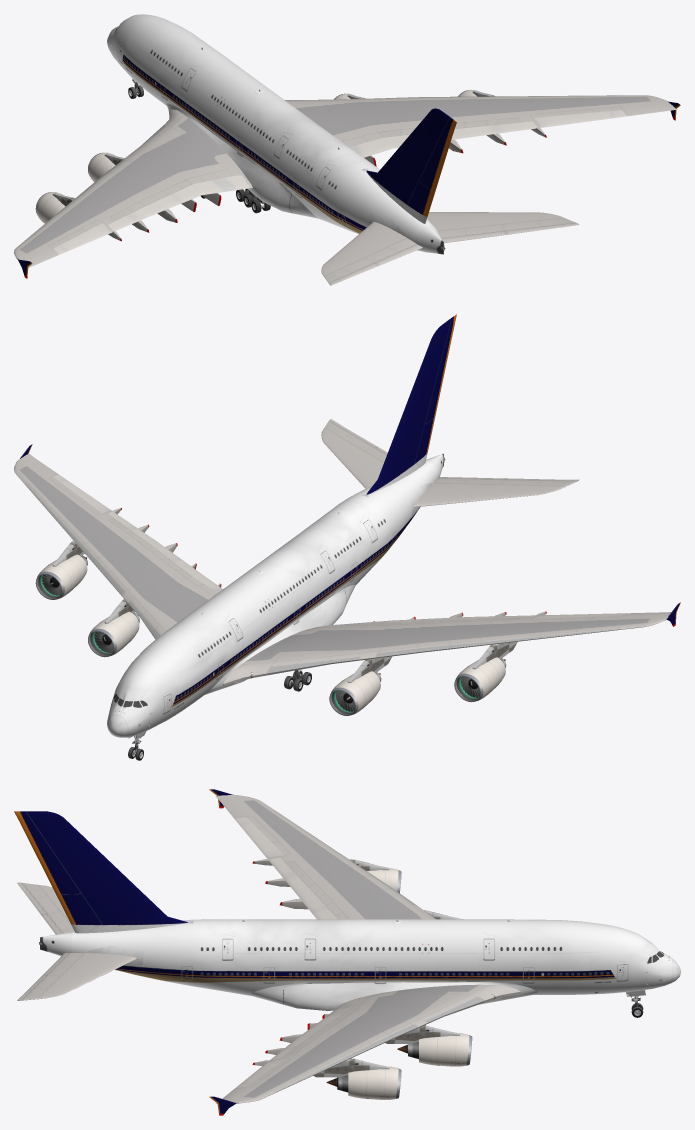
The model's file is airbus_a380.glb.
The picture shows the model from 3 angles, top to bottom: view 1: azimuth 30°, elevation 25°; view 2: azimuth 150°, elevation 25°; view 3: azimuth 270°, elevation 25°; orthographic projection. The views are drawn at different scales.
Visible parts, largest first — view 1: A380_0, Wheels_1; view 2: A380_0, Wheels_1; view 3: A380_0.
Boxes of the visible parts, x1,y1,x2,y2 form: A380_0: (14,14,680,285); Wheels_1: (128,79,270,213); A380_0: (14,314,680,737); Wheels_1: (127,669,311,760); A380_0: (14,789,680,1115).
Size of the model in its own units: 79.68 by 24.69 by 73.
1 material, 1 textured.
